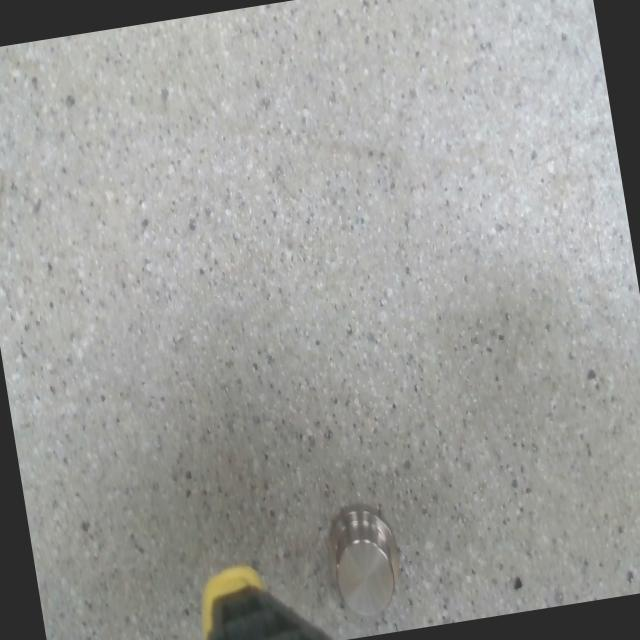sensor: (317, 496, 408, 624)
